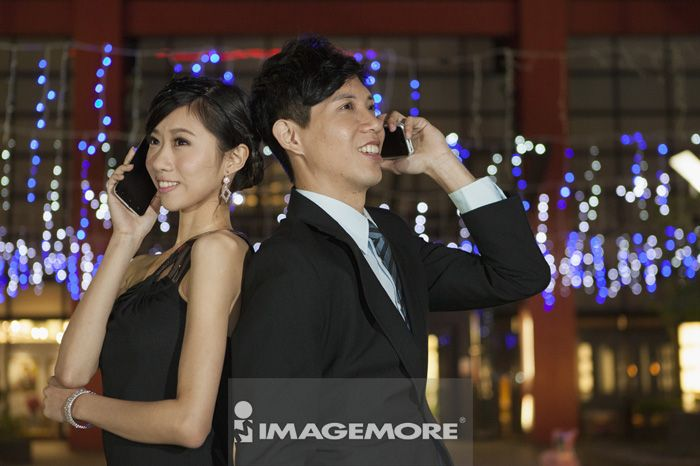phone: (113, 133, 160, 220), (380, 122, 419, 159)
talk: (329, 87, 450, 190), (105, 125, 199, 240)
